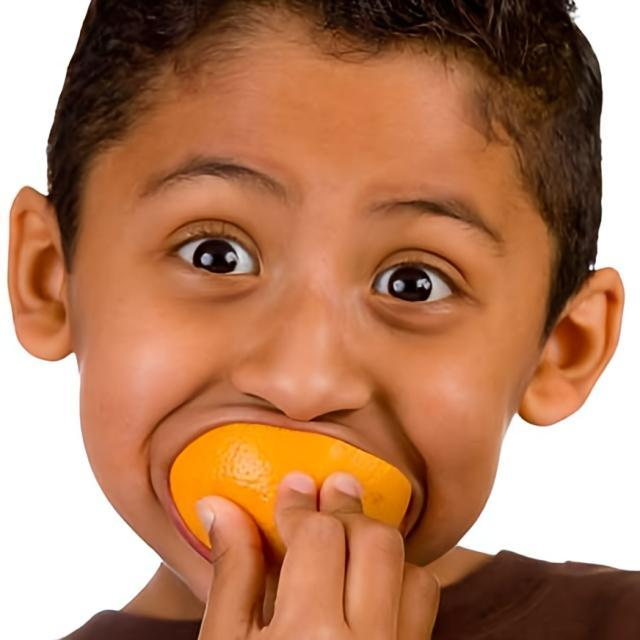surprise: (85, 25, 538, 613)
